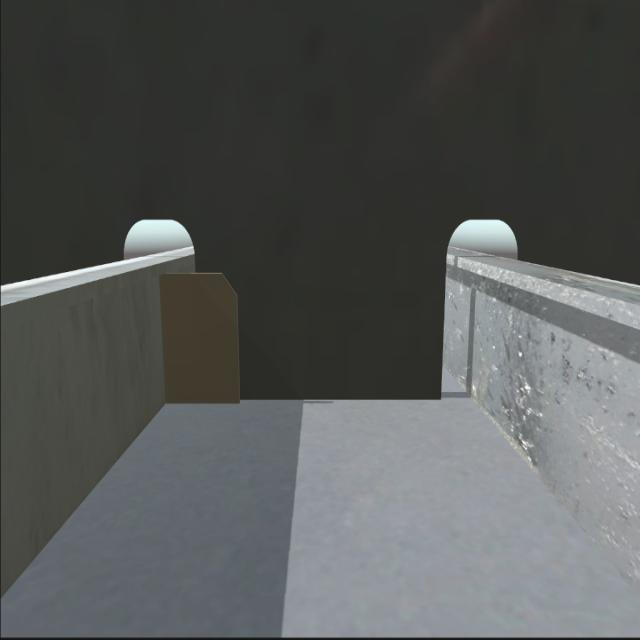fillet_yong_jeop_jang: (166, 389, 444, 409)
longi_yong_jeop_jang: (152, 272, 176, 401)
plate_CP03: (158, 270, 244, 402)
